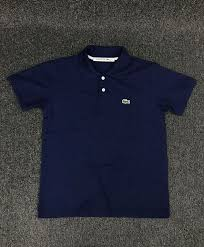C_polo shirt: (5, 45, 204, 216)
